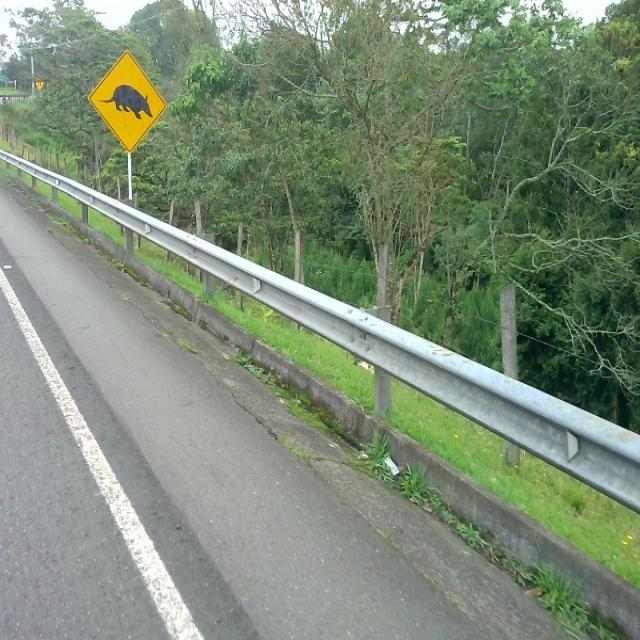DITCH: (2, 19, 638, 638), (1, 78, 638, 638), (1, 172, 638, 638)
